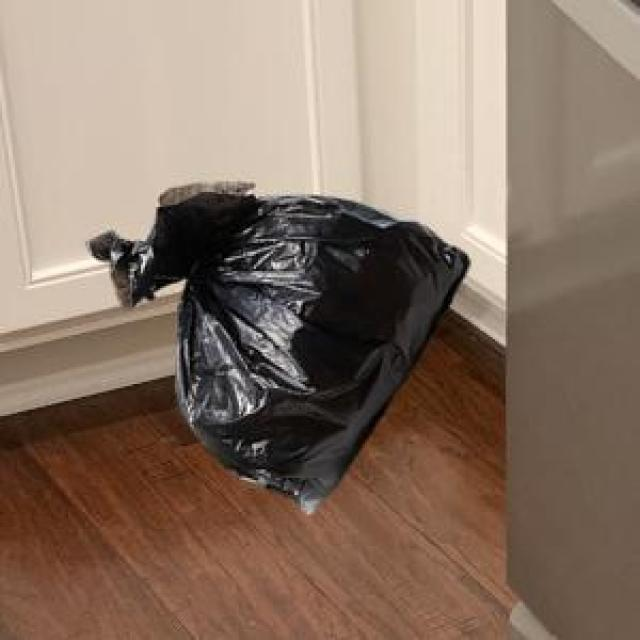Vinyl: (89, 182, 469, 509)
